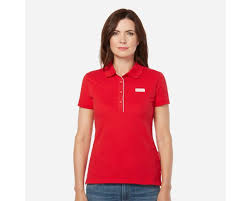S_polo shirt: (73, 65, 182, 187)
